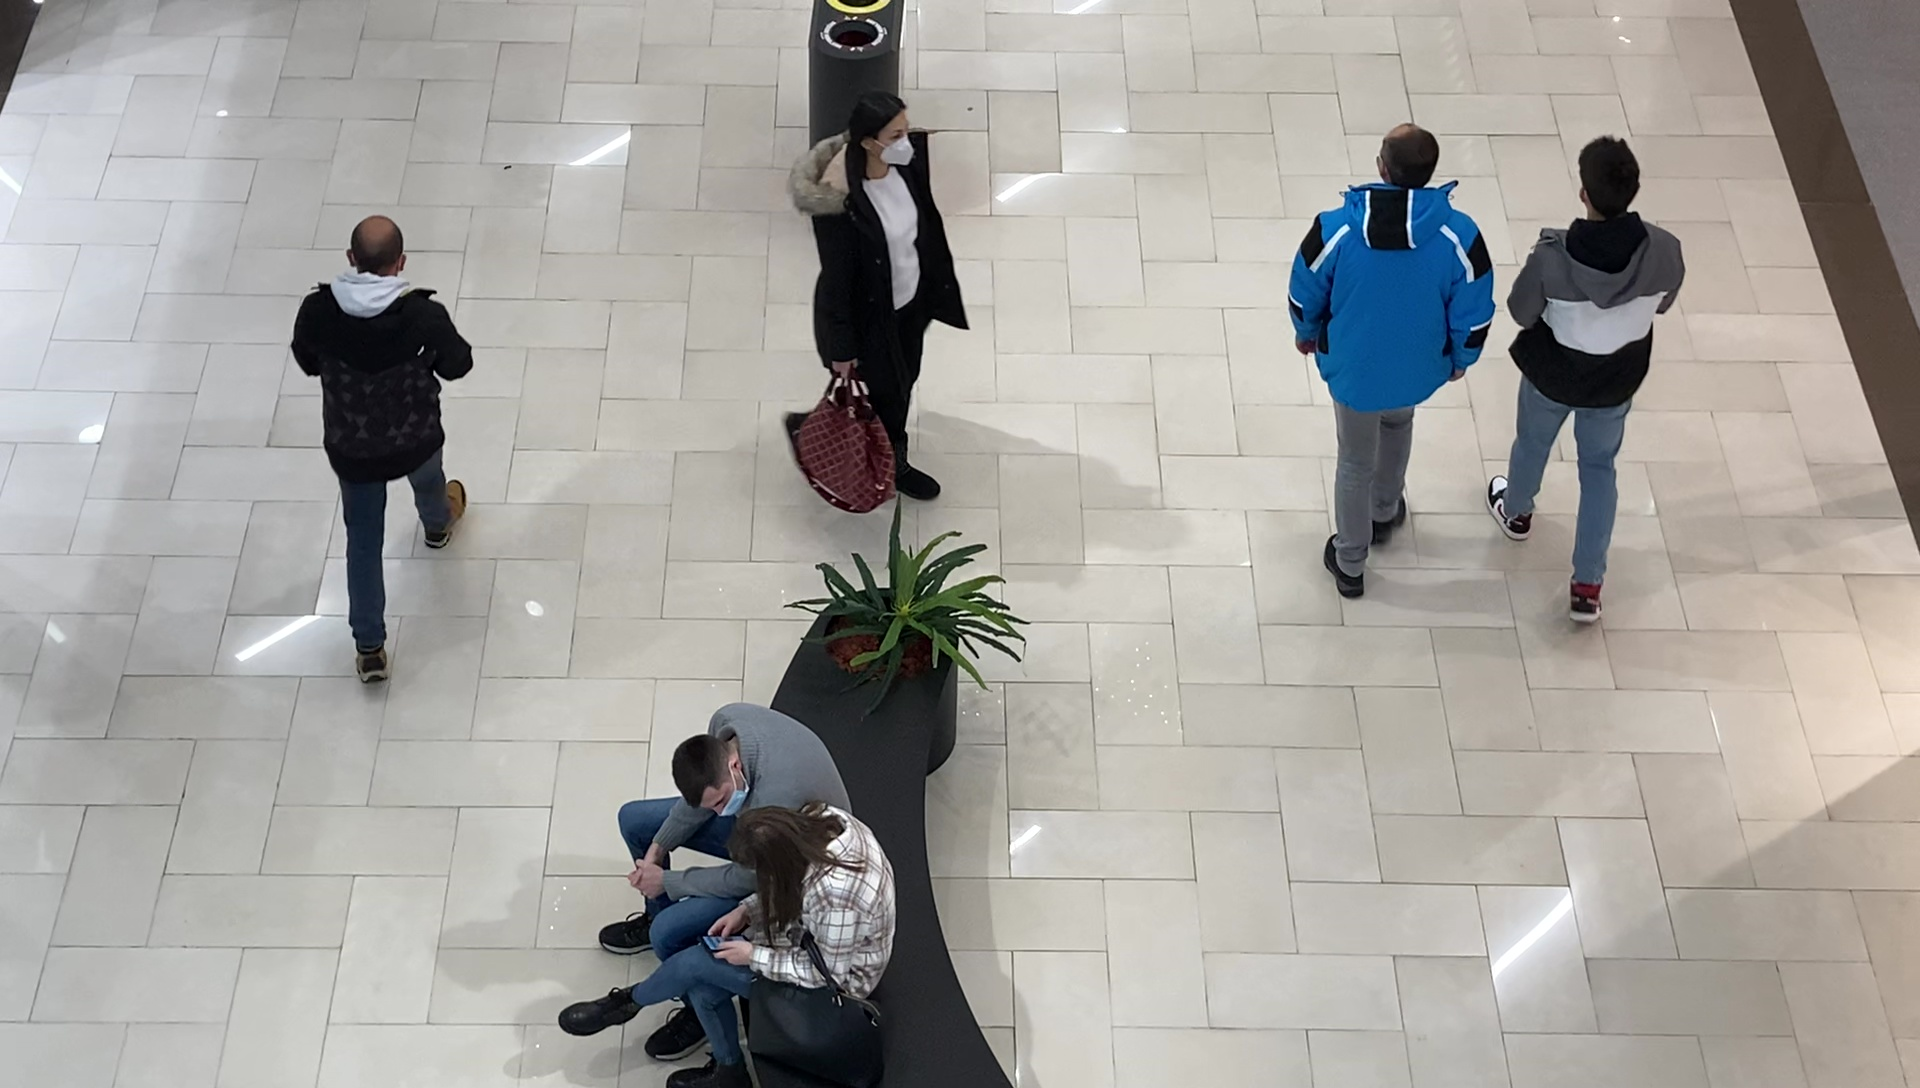person: (1286, 124, 1494, 601), (1489, 136, 1686, 624), (561, 805, 897, 1087), (291, 214, 475, 687), (787, 96, 961, 505), (618, 703, 855, 883)
